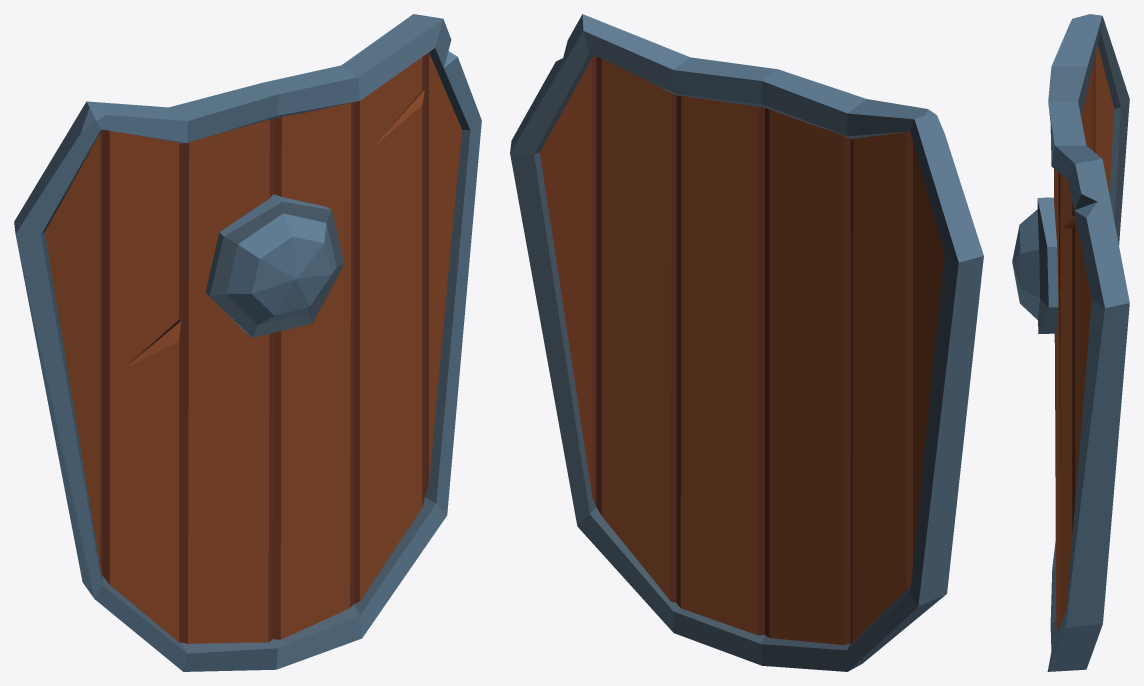
Rendered from SM_TowerShield_A.fbx.
3 renders of one model, left to right at view 1: azimuth 30°, elevation 25°; view 2: azimuth 150°, elevation 25°; view 3: azimuth 270°, elevation 25°, orthographic. The views are drawn at different scales.
Visible parts, largest first — view 1: SM_TowerShield_A; view 2: SM_TowerShield_A; view 3: SM_TowerShield_A.
Part boxes in pixels (x1,y1,x2,y2): SM_TowerShield_A: (14, 14, 481, 671); SM_TowerShield_A: (510, 14, 983, 671); SM_TowerShield_A: (1012, 14, 1129, 671).
Bounding box in the file's own units: 1.06 × 1.3 × 0.2448.
